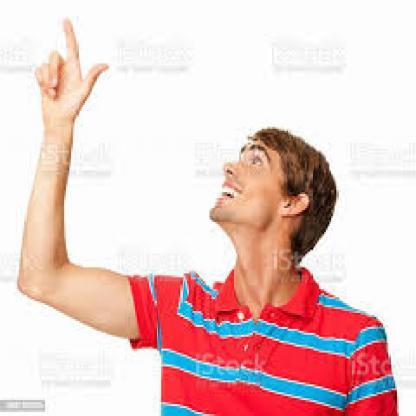Up: (37, 3, 101, 132)
